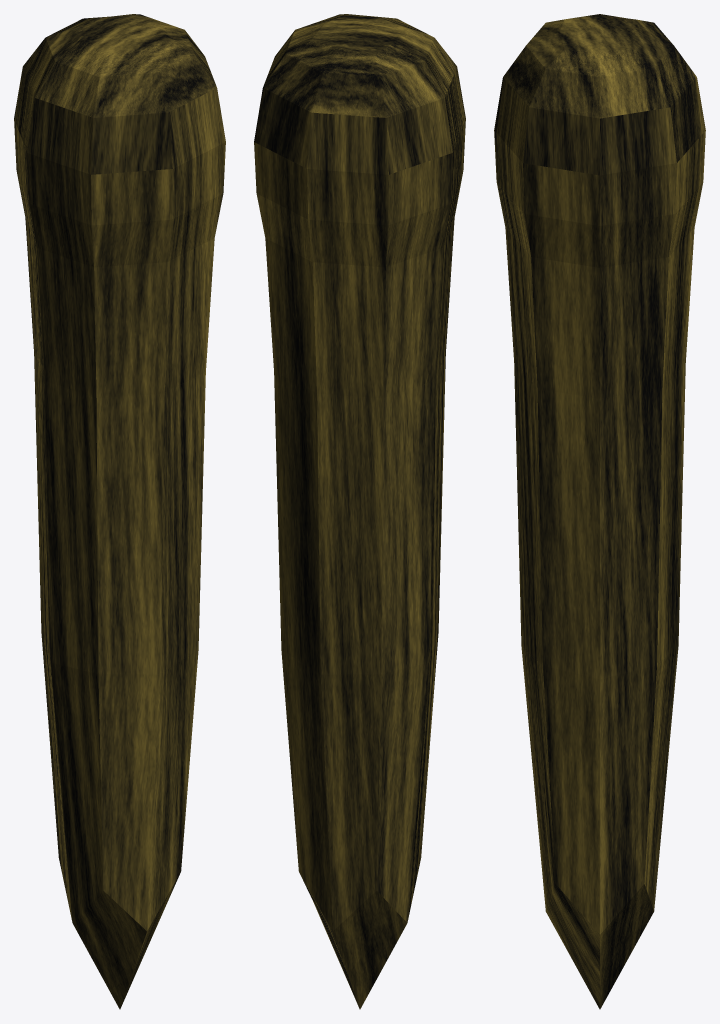
File: Torch.fbx
3 renders of one model, left to right at view 1: azimuth 30°, elevation 25°; view 2: azimuth 150°, elevation 25°; view 3: azimuth 270°, elevation 25°, orthographic.
Visible parts, largest first — view 1: Cube; view 2: Cube; view 3: Cube.
Boxes of the visible parts, <box> form: Cube: <box>14,14,225,1009</box>; Cube: <box>254,14,465,1009</box>; Cube: <box>494,14,705,1009</box>.
Bounding box in the file's own units: 22.7 × 115 × 22.44.
